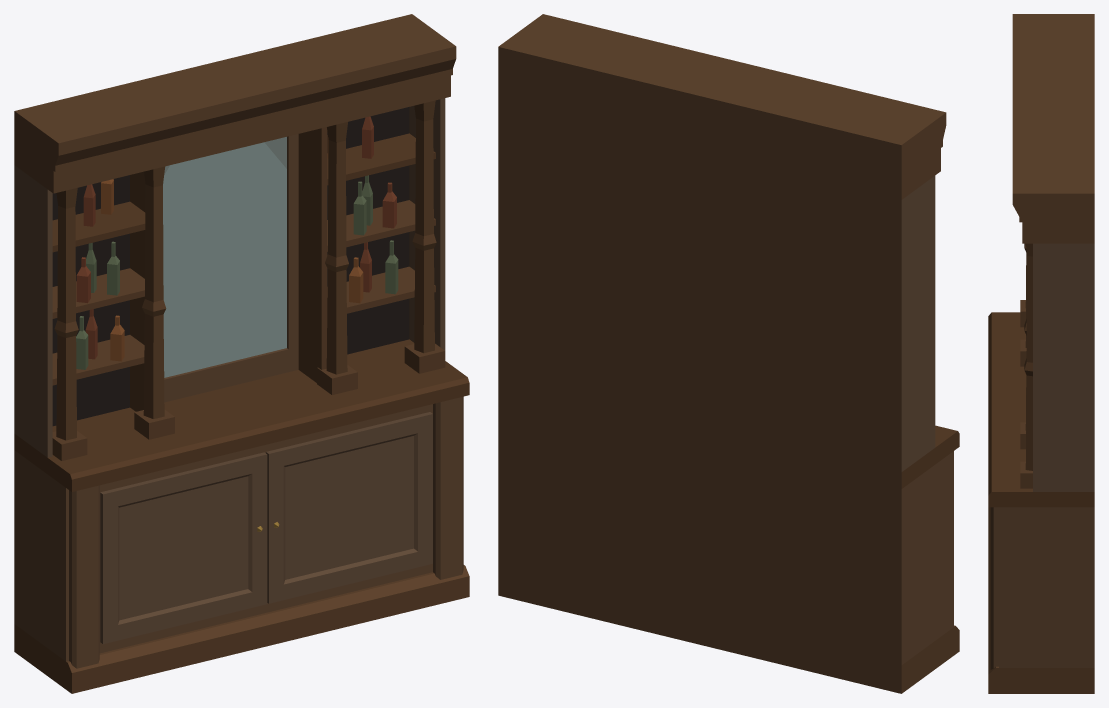
File: back-bar-shelf-and-f5f279.glb
The picture shows the model from 3 angles, left to right: view 1: azimuth 30°, elevation 25°; view 2: azimuth 150°, elevation 25°; view 3: azimuth 270°, elevation 25°; orthographic projection. The views are drawn at different scales.
Visible parts, largest first — view 1: saloon-back-bar, door-l, door-r, stock; view 2: saloon-back-bar; view 3: saloon-back-bar.
Part boxes in pixels (left/top/right/bottom): saloon-back-bar: left=14, top=14, right=469, bottom=693; door-l: left=100, top=452, right=267, bottom=644; door-r: left=266, top=412, right=432, bottom=603; stock: left=76, top=116, right=398, bottom=369; saloon-back-bar: left=498, top=14, right=959, bottom=693; saloon-back-bar: left=988, top=14, right=1094, bottom=693.
Bounding box in the file's own units: 2 × 2.6 × 0.5.
